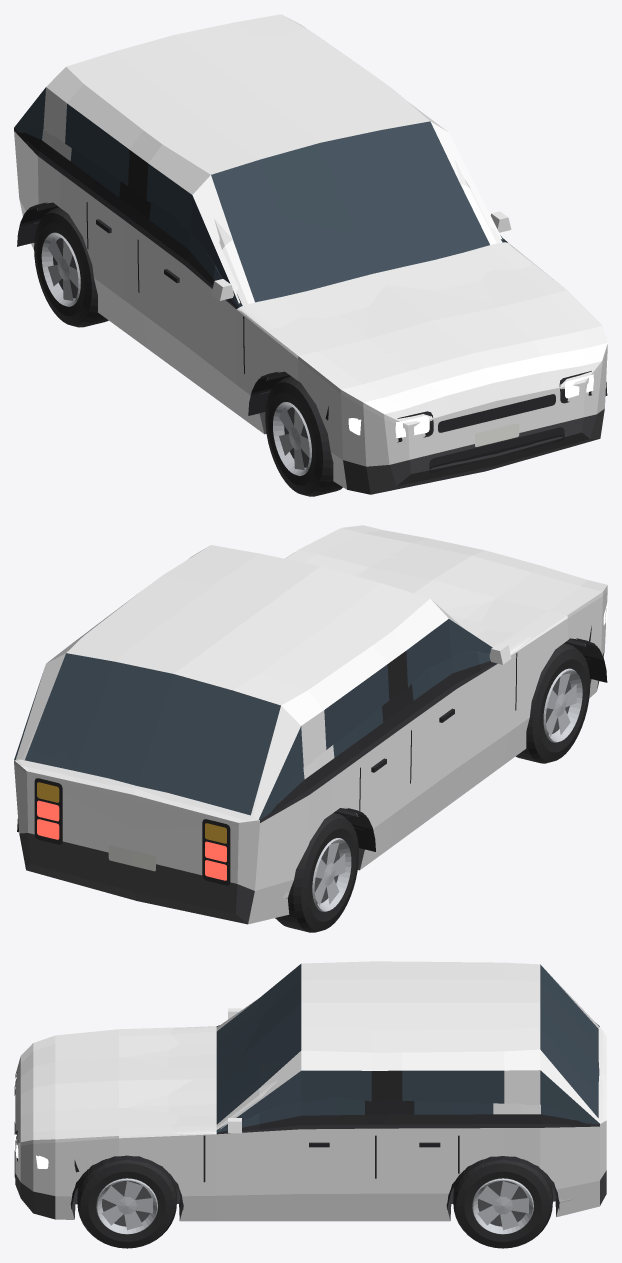
Rendered from cuiabano.glb.
3 renders of one model, top to bottom at view 1: azimuth 30°, elevation 25°; view 2: azimuth 150°, elevation 25°; view 3: azimuth 270°, elevation 25°, orthographic. The views are drawn at different scales.
Visible parts, largest first — view 1: body.001, glass.001, glass, body, wheel_fr, wheel_rr, details, wheel_wells.001, lamp_head; view 2: body.001, glass.001, body, wheel_rr, wheel_fr, glass, lamp_tail, details, lamp_tail.001, wheel_wells.001; view 3: body.001, glass.001, body, glass, wheel_rl, wheel_fl, wheel_wells, details, wheel_wells.001.
Boxes of the visible parts, x1,y1,x2,y2 form: body.001: (14, 14, 607, 494); glass.001: (14, 87, 459, 302); glass: (25, 128, 506, 307); body: (17, 129, 588, 471); wheel_fr: (265, 376, 342, 496); wheel_rr: (34, 207, 108, 327); details: (86, 202, 564, 472); wheel_wells.001: (17, 202, 290, 415); lamp_head: (325, 371, 593, 442); body.001: (14, 525, 607, 924); glass.001: (14, 619, 492, 819); body: (17, 554, 584, 898); wheel_rr: (275, 812, 358, 932); wheel_fr: (516, 643, 590, 763); glass: (25, 651, 490, 815); lamp_tail: (34, 778, 230, 885); details: (108, 643, 517, 871); lamp_tail.001: (37, 800, 226, 880); wheel_wells.001: (334, 638, 607, 851); body.001: (15, 961, 606, 1221); glass.001: (220, 964, 599, 1129); body: (18, 1002, 605, 1203); glass: (216, 987, 598, 1132); wheel_rl: (453, 1159, 552, 1248); wheel_fl: (77, 1159, 176, 1248); wheel_wells: (71, 1155, 559, 1209); details: (14, 1008, 459, 1182); wheel_wells.001: (71, 1159, 558, 1209).
Bounding box in the file's own units: 1.98 × 1.56 × 4.3.
